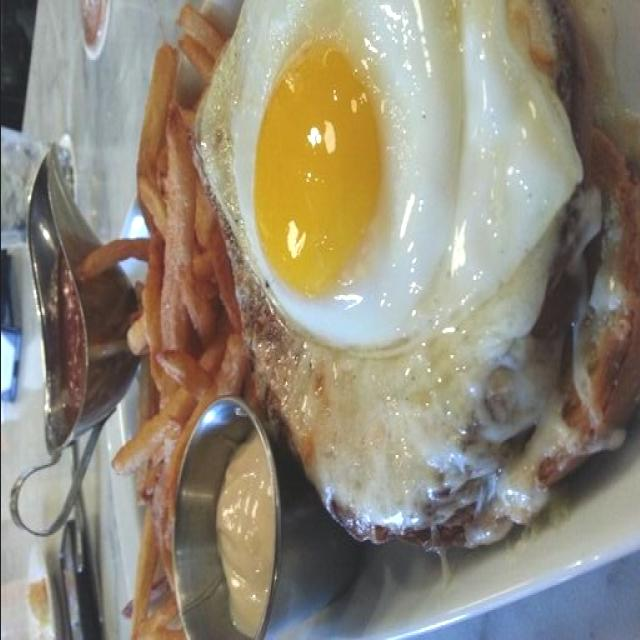telur ceplok: (191, 0, 585, 533)
